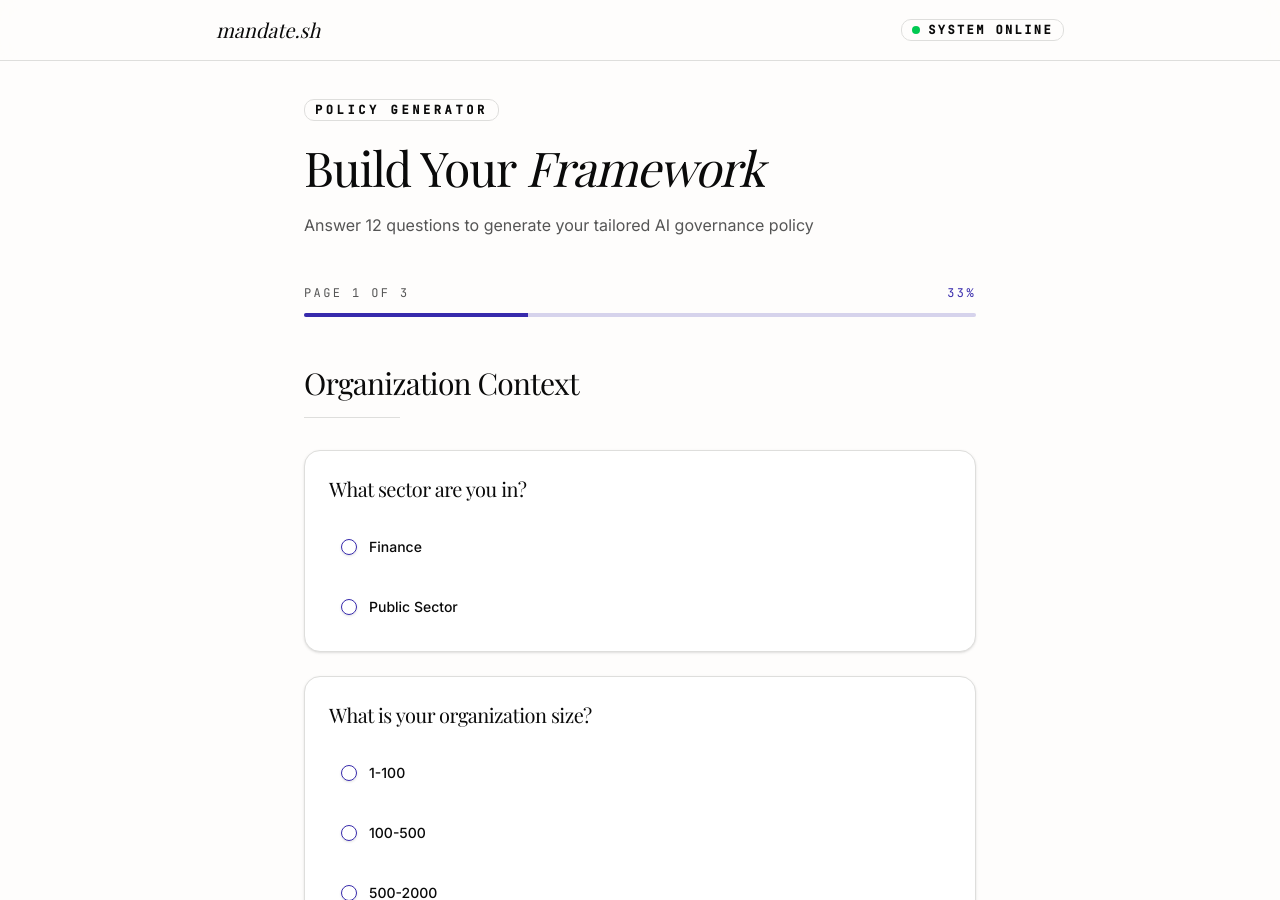
Scenario: GeneratePage - Questionnaire Form › Form Rendering & Navigation › shows progress bar at 100% on page 3
This screenshot has width=1280, height=900.
// Navigate to page 3
Click the radio button named "finance" next to "Finance" at (349, 547), box [341, 539, 357, 555]
(page scrolled)
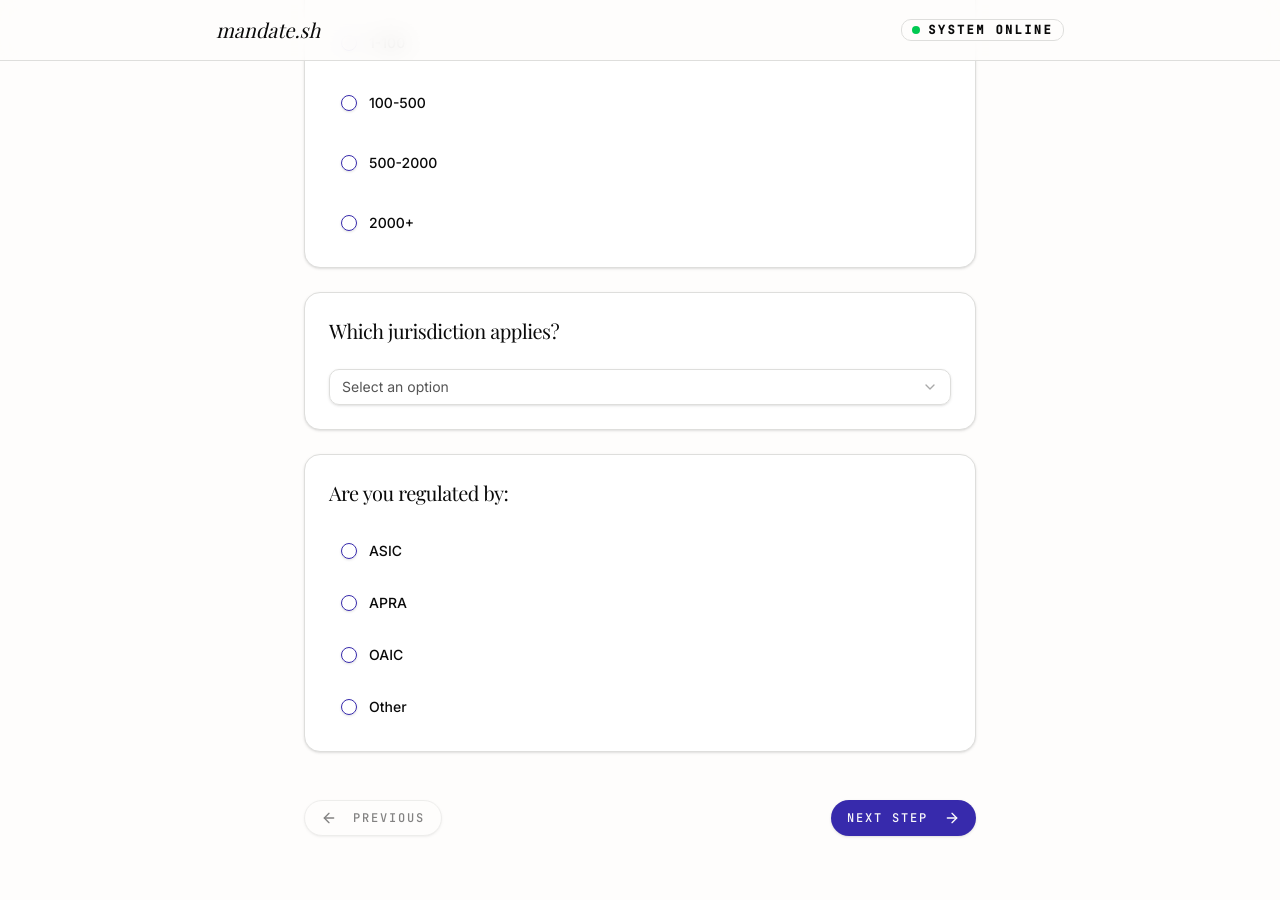
Click the button "Next Step" at (904, 818), box [831, 800, 976, 836]
(page scrolled)
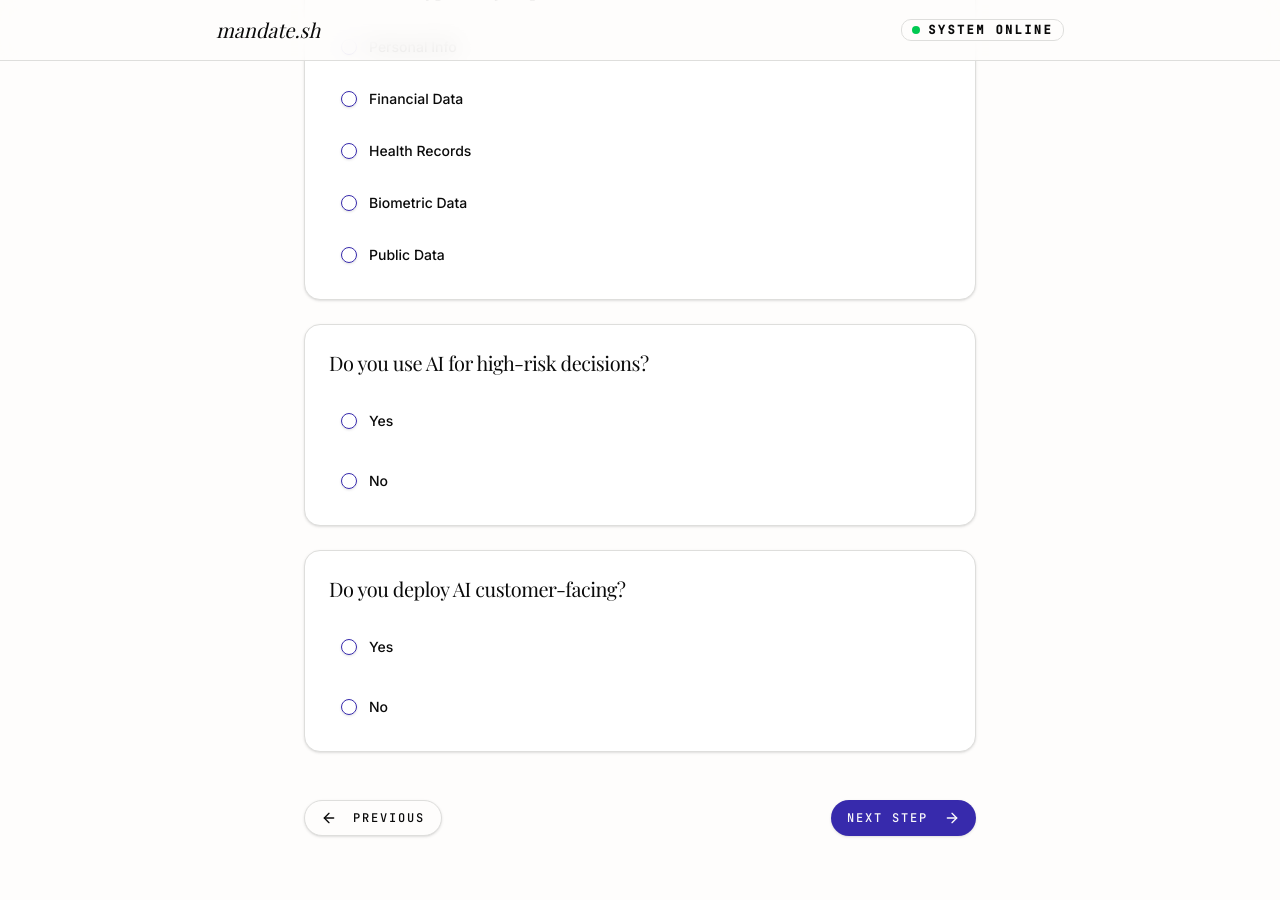
Click the button "Next Step" at (904, 818), box [831, 800, 976, 836]
(page scrolled)
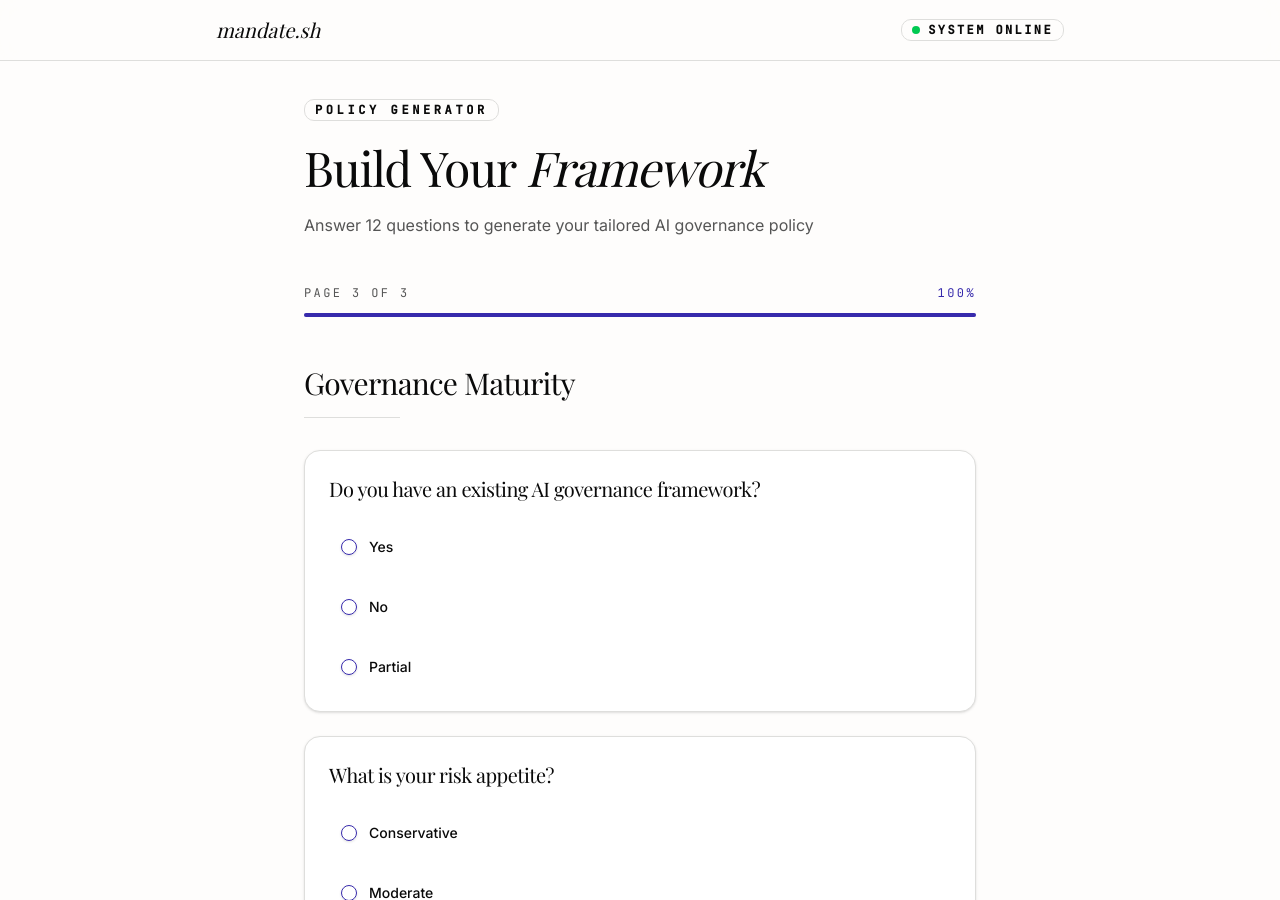
Result: the text "Page 3 of 3" is shown at [304, 285, 410, 301]
Result: the text "100%" is shown at [938, 285, 976, 301]
